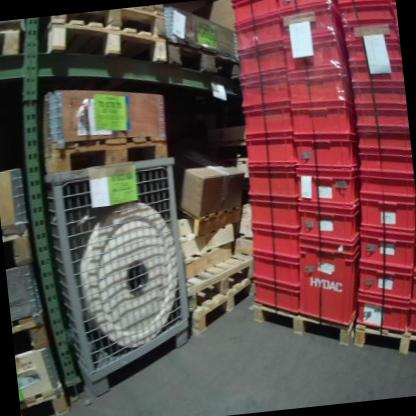pallet: (41, 7, 169, 76), (252, 289, 355, 356), (46, 127, 174, 176), (47, 4, 168, 51), (170, 250, 260, 312), (172, 280, 264, 338), (164, 34, 244, 88), (352, 307, 416, 364), (11, 309, 46, 360), (18, 386, 72, 416), (1, 222, 34, 267), (0, 20, 28, 58)
small_load_carrier: (295, 233, 371, 335), (290, 157, 363, 216), (285, 124, 362, 176), (277, 62, 355, 112), (348, 257, 416, 313), (343, 292, 414, 345), (287, 95, 356, 146), (352, 188, 416, 242), (295, 205, 364, 254), (351, 228, 416, 280), (273, 3, 342, 45), (280, 36, 346, 79), (250, 271, 303, 321), (351, 132, 412, 174), (249, 246, 302, 294), (353, 173, 416, 213), (245, 220, 303, 263), (355, 152, 415, 193), (339, 34, 401, 73), (230, 14, 283, 58), (248, 162, 300, 204), (345, 59, 403, 96), (347, 107, 408, 142), (351, 82, 406, 120), (244, 131, 298, 167), (336, 19, 399, 49), (237, 73, 287, 110), (241, 104, 295, 138), (335, 0, 396, 30), (234, 44, 285, 79), (229, 0, 280, 31), (250, 199, 300, 226), (334, 0, 396, 12), (276, 0, 335, 11), (404, 270, 416, 309), (410, 244, 416, 273), (410, 309, 416, 337)
stillage: (38, 151, 206, 403)
